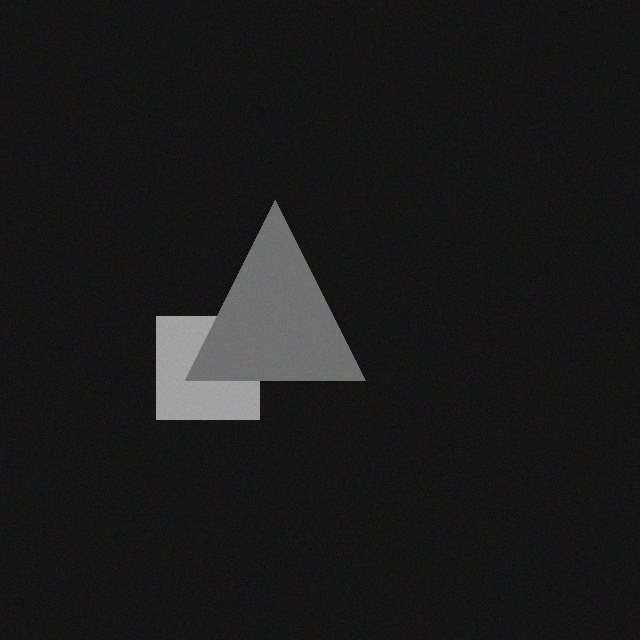square: (147, 320, 250, 423)
triangle: (176, 204, 356, 384)
